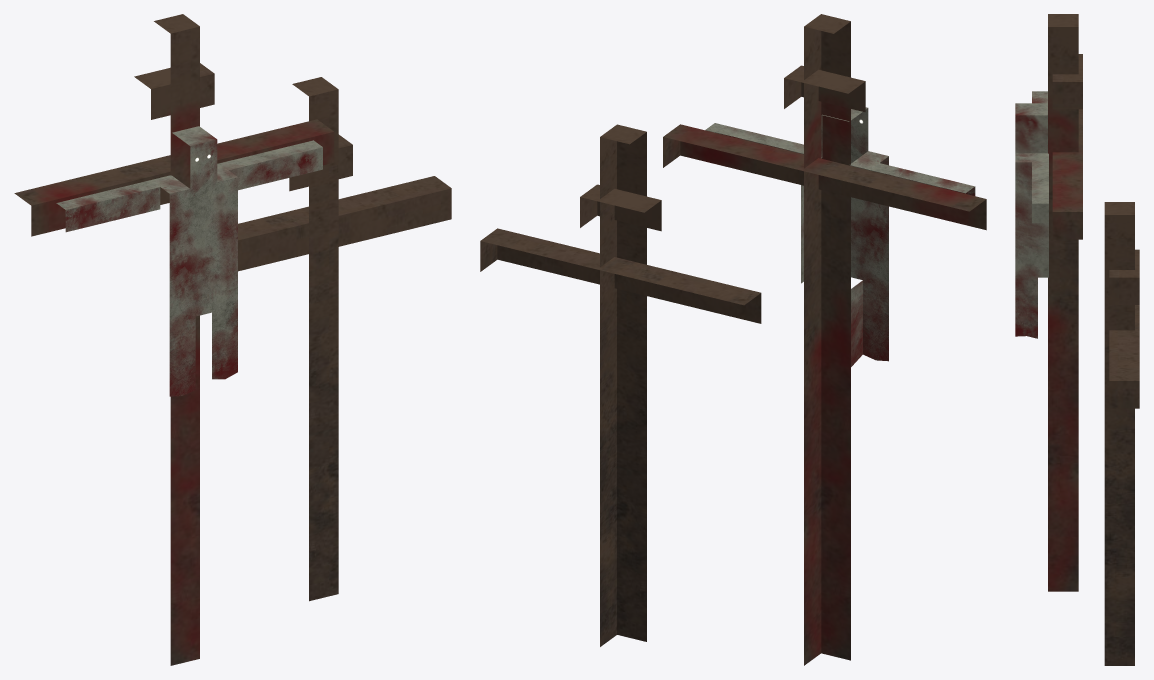
Rendered from Crosses_to_Unity.fbx.
The picture shows the model from 3 angles, left to right: view 1: azimuth 30°, elevation 25°; view 2: azimuth 150°, elevation 25°; view 3: azimuth 270°, elevation 25°; orthographic projection. The views are drawn at different scales.
Parts seen in each view (by area): view 1: Cube.006, Cube.011; view 2: Cube.006, Cube.011; view 3: Cube.006, Cube.011.
Boxes of the visible parts, bbox=[...] form: Cube.006: bbox=[14, 14, 334, 665]; Cube.011: bbox=[238, 77, 451, 601]; Cube.006: bbox=[663, 14, 986, 665]; Cube.011: bbox=[480, 124, 761, 646]; Cube.006: bbox=[1015, 14, 1082, 591]; Cube.011: bbox=[1104, 202, 1139, 665].
Size of the model in its own units: 266 by 355 by 70.9.
